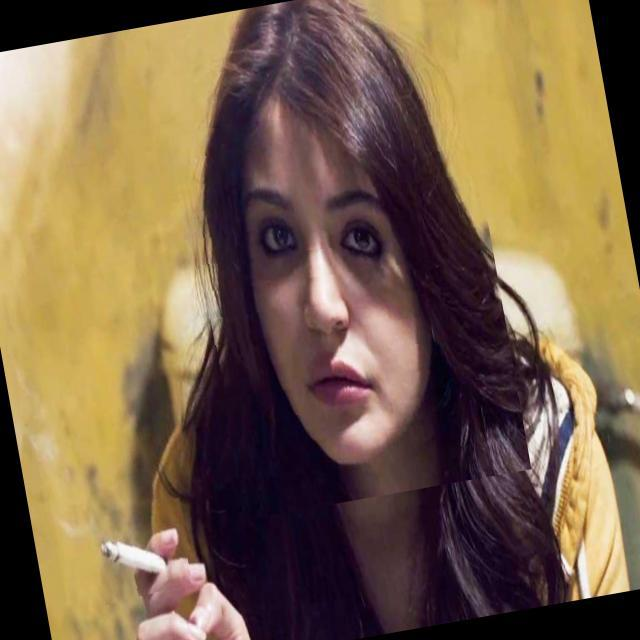cigarette: (89, 498, 195, 604)
